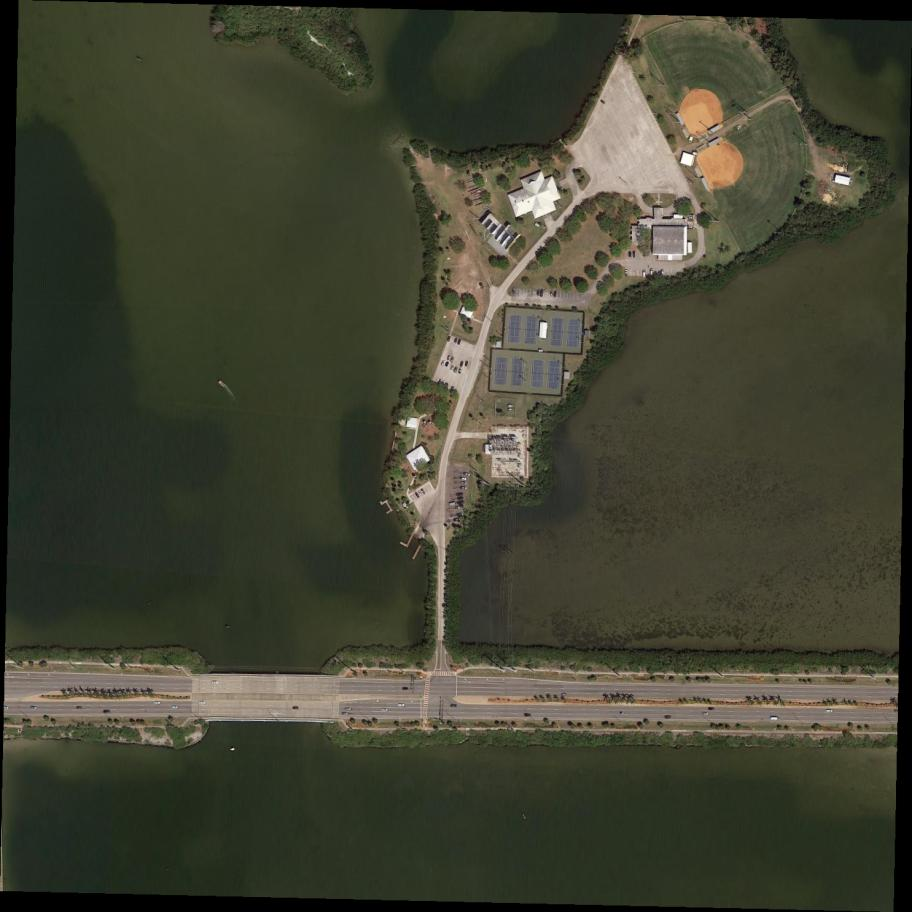small-vehicle: (420, 488, 427, 496), (440, 381, 446, 390), (437, 378, 442, 388), (463, 472, 472, 477), (642, 269, 647, 278), (446, 335, 452, 342), (417, 490, 423, 497), (415, 492, 421, 499), (453, 366, 459, 373), (440, 360, 446, 367), (524, 713, 532, 718), (457, 496, 465, 501), (444, 383, 449, 391), (450, 356, 455, 364), (454, 337, 459, 345), (456, 513, 465, 517), (444, 361, 450, 367), (771, 717, 780, 721), (398, 703, 405, 708), (172, 705, 179, 710), (450, 365, 455, 372), (457, 338, 462, 345), (450, 386, 455, 393), (381, 708, 389, 712), (402, 686, 410, 690), (454, 518, 462, 522), (456, 493, 464, 497), (460, 486, 468, 490), (154, 701, 162, 705), (540, 289, 544, 297), (826, 709, 834, 713), (461, 476, 467, 481), (345, 707, 352, 711), (342, 712, 349, 716), (212, 681, 219, 685), (76, 706, 83, 710), (104, 710, 111, 714), (457, 501, 464, 505), (553, 291, 557, 298), (661, 269, 665, 276), (665, 716, 672, 720), (461, 481, 467, 485), (200, 701, 206, 705), (31, 706, 37, 710), (460, 361, 464, 367), (465, 361, 469, 367), (625, 270, 628, 278), (703, 712, 709, 716), (451, 705, 458, 708), (456, 507, 463, 510), (292, 707, 299, 710), (650, 269, 653, 276), (537, 289, 540, 296), (633, 251, 636, 258), (447, 356, 451, 361), (459, 368, 462, 374), (550, 291, 553, 297), (629, 251, 632, 257), (561, 694, 567, 697), (513, 289, 516, 294)
